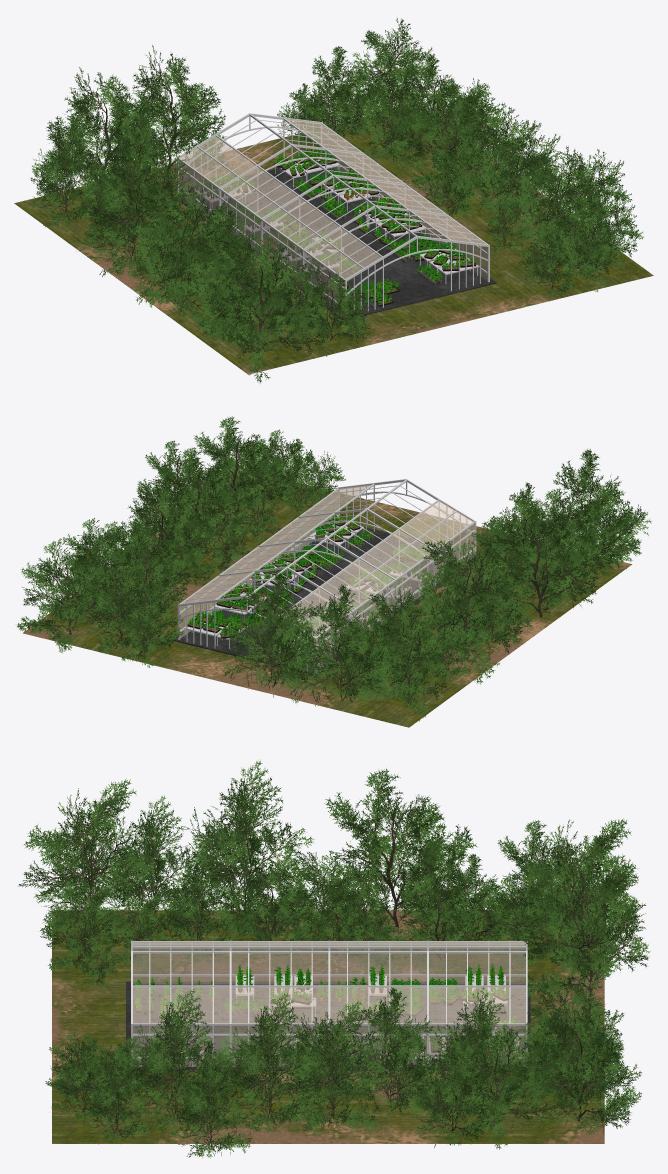
File: greenhouse_optimized.glb
3 renders of one model, top to bottom at view 1: azimuth 30°, elevation 25°; view 2: azimuth 150°, elevation 25°; view 3: azimuth 270°, elevation 25°, orthographic. The views are drawn at different scales.
Visible parts, largest first — view 1: Ground, GreenHouseStructure, Bush, Floor, Bush.012, Bush.003, Bush.014, Bush.011, Bush.017, Bush.019, Bush.021, Bush.023 (+27 smaller); view 2: Ground, GreenHouseStructure, Bush.012, Bush.003, Bush.014, Bush.011, Floor, Bush.015, Bush, Bush.021, Bush.017, Bush.008 (+27 smaller); view 3: Ground, GreenHouseStructure, Bush.012, Bush.014, Bush, Bush.003, Floor, Bush.015, Bush.019, Bush.020, Bush.011, Bush.017 (+29 smaller).
Part boxes in pixels (bbox=[...]): Ground: bbox=[14, 105, 653, 374]; GreenHouseStructure: bbox=[177, 113, 489, 316]; Bush: bbox=[201, 234, 327, 383]; Floor: bbox=[177, 166, 496, 319]; Bush.012: bbox=[76, 120, 195, 276]; Bush.003: bbox=[128, 185, 243, 323]; Bush.014: bbox=[108, 45, 228, 181]; Bush.011: bbox=[44, 67, 169, 204]; Bush.017: bbox=[513, 146, 611, 258]; Bush.019: bbox=[475, 119, 568, 231]; Bush.021: bbox=[400, 83, 498, 200]; Bush.023: bbox=[356, 74, 435, 170]; Ground: bbox=[23, 473, 631, 727]; GreenHouseStructure: bbox=[177, 479, 476, 672]; Bush.012: bbox=[413, 534, 532, 684]; Bush.003: bbox=[481, 495, 599, 633]; Bush.014: bbox=[220, 571, 324, 703]; Bush.011: bbox=[287, 584, 391, 706]; Floor: bbox=[172, 527, 481, 675]; Bush.015: bbox=[17, 538, 113, 652]; Bush: bbox=[534, 449, 651, 571]; Bush.021: bbox=[112, 481, 214, 589]; Bush.017: bbox=[193, 416, 289, 523]; Bush.008: bbox=[375, 621, 453, 721]; Ground: bbox=[52, 910, 604, 1143]; GreenHouseStructure: bbox=[131, 940, 527, 1067]; Bush.012: bbox=[314, 768, 477, 940]; Bush.014: bbox=[516, 857, 650, 1018]; Bush: bbox=[18, 778, 147, 945]; Bush.003: bbox=[181, 759, 317, 937]; Floor: bbox=[126, 981, 530, 1070]; Bush.015: bbox=[519, 992, 641, 1135]; Bush.019: bbox=[219, 993, 324, 1133]; Bush.020: bbox=[284, 1001, 385, 1134]; Bush.011: bbox=[507, 818, 642, 980]; Bush.017: bbox=[123, 988, 229, 1133].
Bounding box in the file's own units: 53.74 × 16.09 × 51.86.
6 materials, 5 textured.
